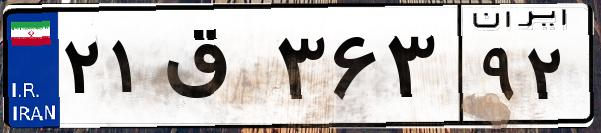1: (110, 28, 158, 98)
2: (57, 26, 110, 100), (525, 38, 570, 115)
3: (270, 28, 330, 110), (385, 28, 445, 110)
6: (330, 28, 385, 110)
9: (475, 38, 525, 113)
ق: (158, 20, 270, 120)
